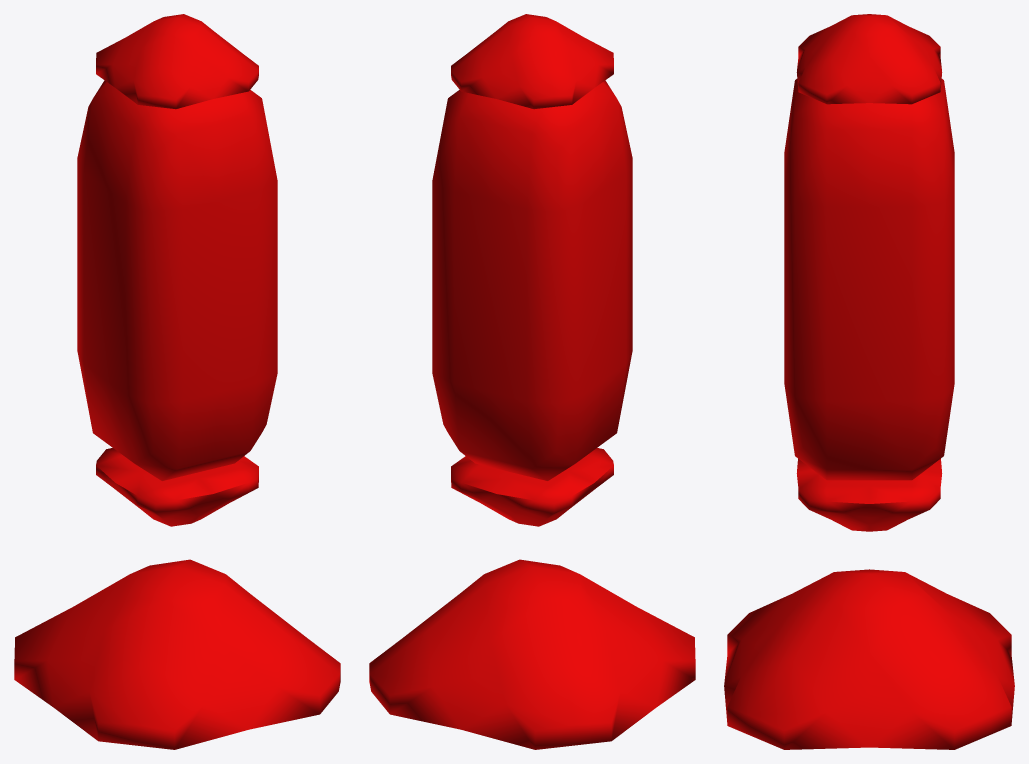
The model's file is alfilRedondo001.fbx.
3 views of the same model, side by side, from view 1: azimuth 30°, elevation 25°; view 2: azimuth 150°, elevation 25°; view 3: azimuth 270°, elevation 25° (orthographic).
Visible parts, largest first — view 1: alfilRedondo; view 2: alfilRedondo; view 3: alfilRedondo.
Part boxes in pixels (x1,y1,x2,y2): alfilRedondo: [14, 14, 340, 749]; alfilRedondo: [369, 14, 695, 749]; alfilRedondo: [724, 14, 1014, 749].
Bounding box in the file's own units: 56.32 × 145 × 56.32.
